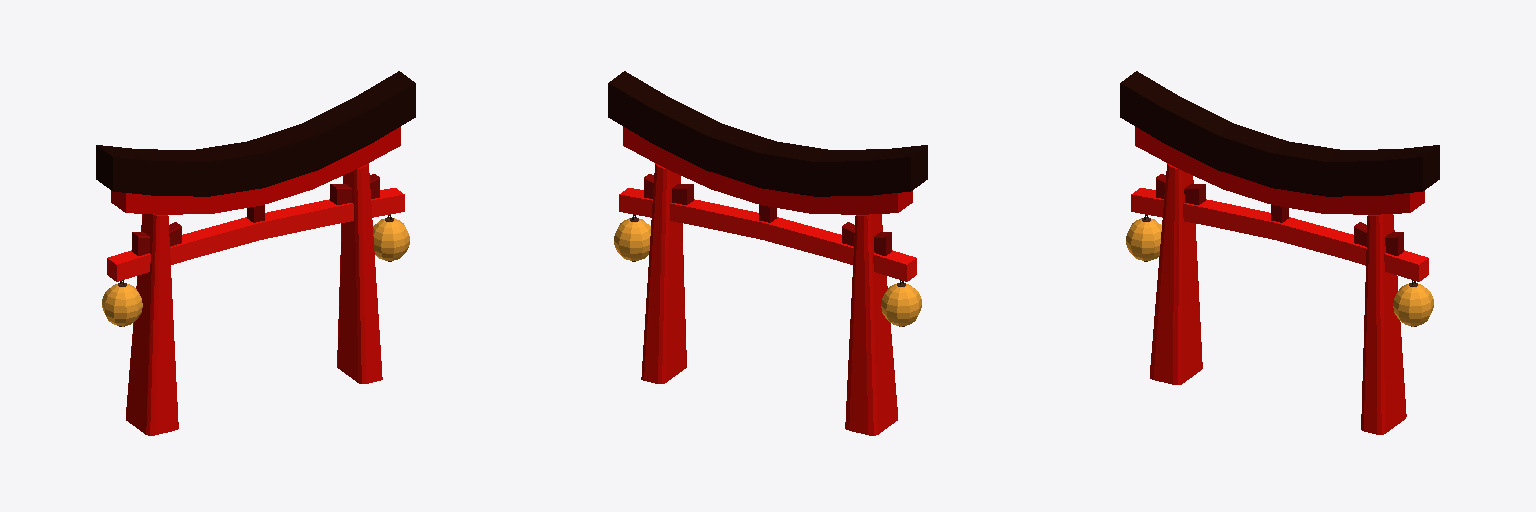
File: gate.obj
The picture shows the model from 3 angles: view 1: azimuth 30°, elevation 25°; view 2: azimuth 150°, elevation 25°; view 3: azimuth 330°, elevation 25°; orthographic projection.
Parts seen in each view (by area): view 1: pCube1, polySurface3 pCube3, pCube4, pCube2, pSphere2, polySurface2 pCube6; view 2: pCube1, polySurface3 pCube3, pCube4, pCube2, pSphere2, polySurface2 pCube6; view 3: pCube1, polySurface3 pCube3, pCube4, pCube2, pSphere2, polySurface2 pCube6.
Boxes of the visible parts, x1,y1,x2,y2 form: pCube1: [96, 71, 415, 196]; polySurface3 pCube3: [126, 163, 382, 435]; pCube4: [107, 188, 404, 281]; pCube2: [111, 127, 400, 214]; pSphere2: [102, 218, 409, 326]; polySurface2 pCube6: [132, 174, 379, 255]; pCube1: [608, 71, 927, 196]; polySurface3 pCube3: [641, 163, 897, 435]; pCube4: [619, 188, 916, 281]; pCube2: [623, 127, 912, 214]; pSphere2: [614, 218, 921, 326]; polySurface2 pCube6: [644, 174, 891, 255]; pCube1: [1120, 71, 1439, 196]; polySurface3 pCube3: [1150, 163, 1406, 434]; pCube4: [1131, 188, 1428, 281]; pCube2: [1135, 127, 1424, 214]; pSphere2: [1126, 218, 1433, 326]; polySurface2 pCube6: [1156, 174, 1403, 255].
Size of the model in its own units: 21.17 by 18.98 by 3.22.